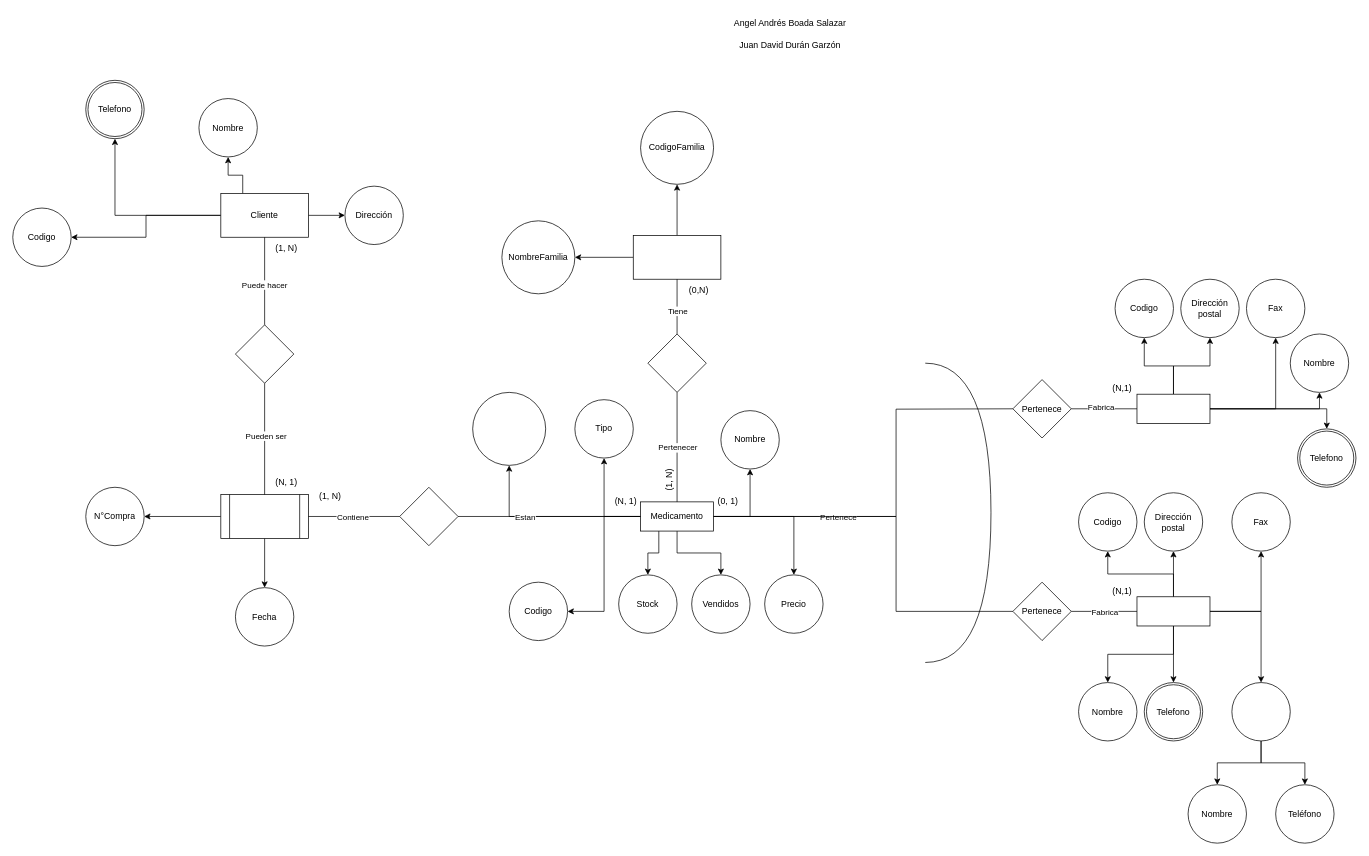
The diagram is 1369 pixels wide and 856 high, and some of its shapes have lost their labels. Each missing label, with the centre of its shape:
"Clasifica" belongs at [676,362].
"Compra" belongs at [264,516].
"Comprar" belongs at [264,353].
"CondicionVenta" belongs at [509,428].
"Contener" belongs at [428,516].
"Familia" belongs at [677,257].
"Farmacia" belongs at [1173,408].
"Laboratorio" belongs at [1173,611].
"Persona de contacto" belongs at [1260,711].
